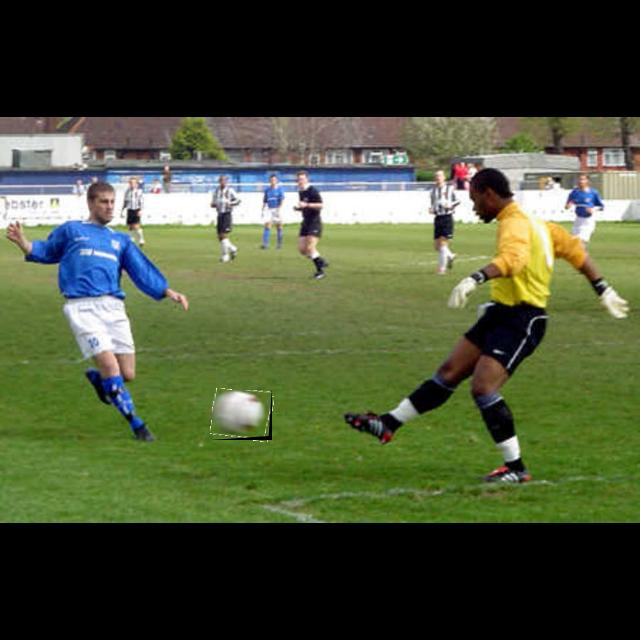Football: (212, 390, 272, 440)
